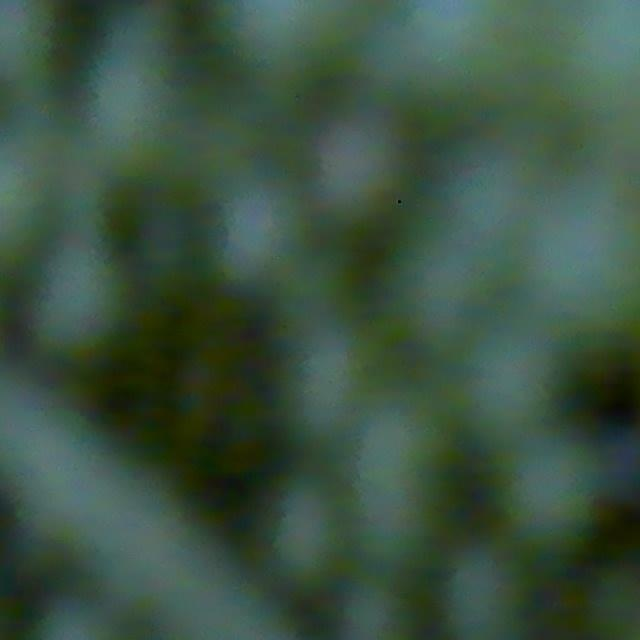SeaGrape: (350, 400, 453, 545), (373, 0, 524, 93), (544, 206, 640, 341), (504, 437, 615, 542), (87, 13, 187, 119), (469, 333, 564, 443), (25, 248, 129, 348), (212, 180, 309, 285), (309, 115, 404, 216), (436, 545, 533, 640), (269, 488, 347, 581), (336, 582, 416, 640)
